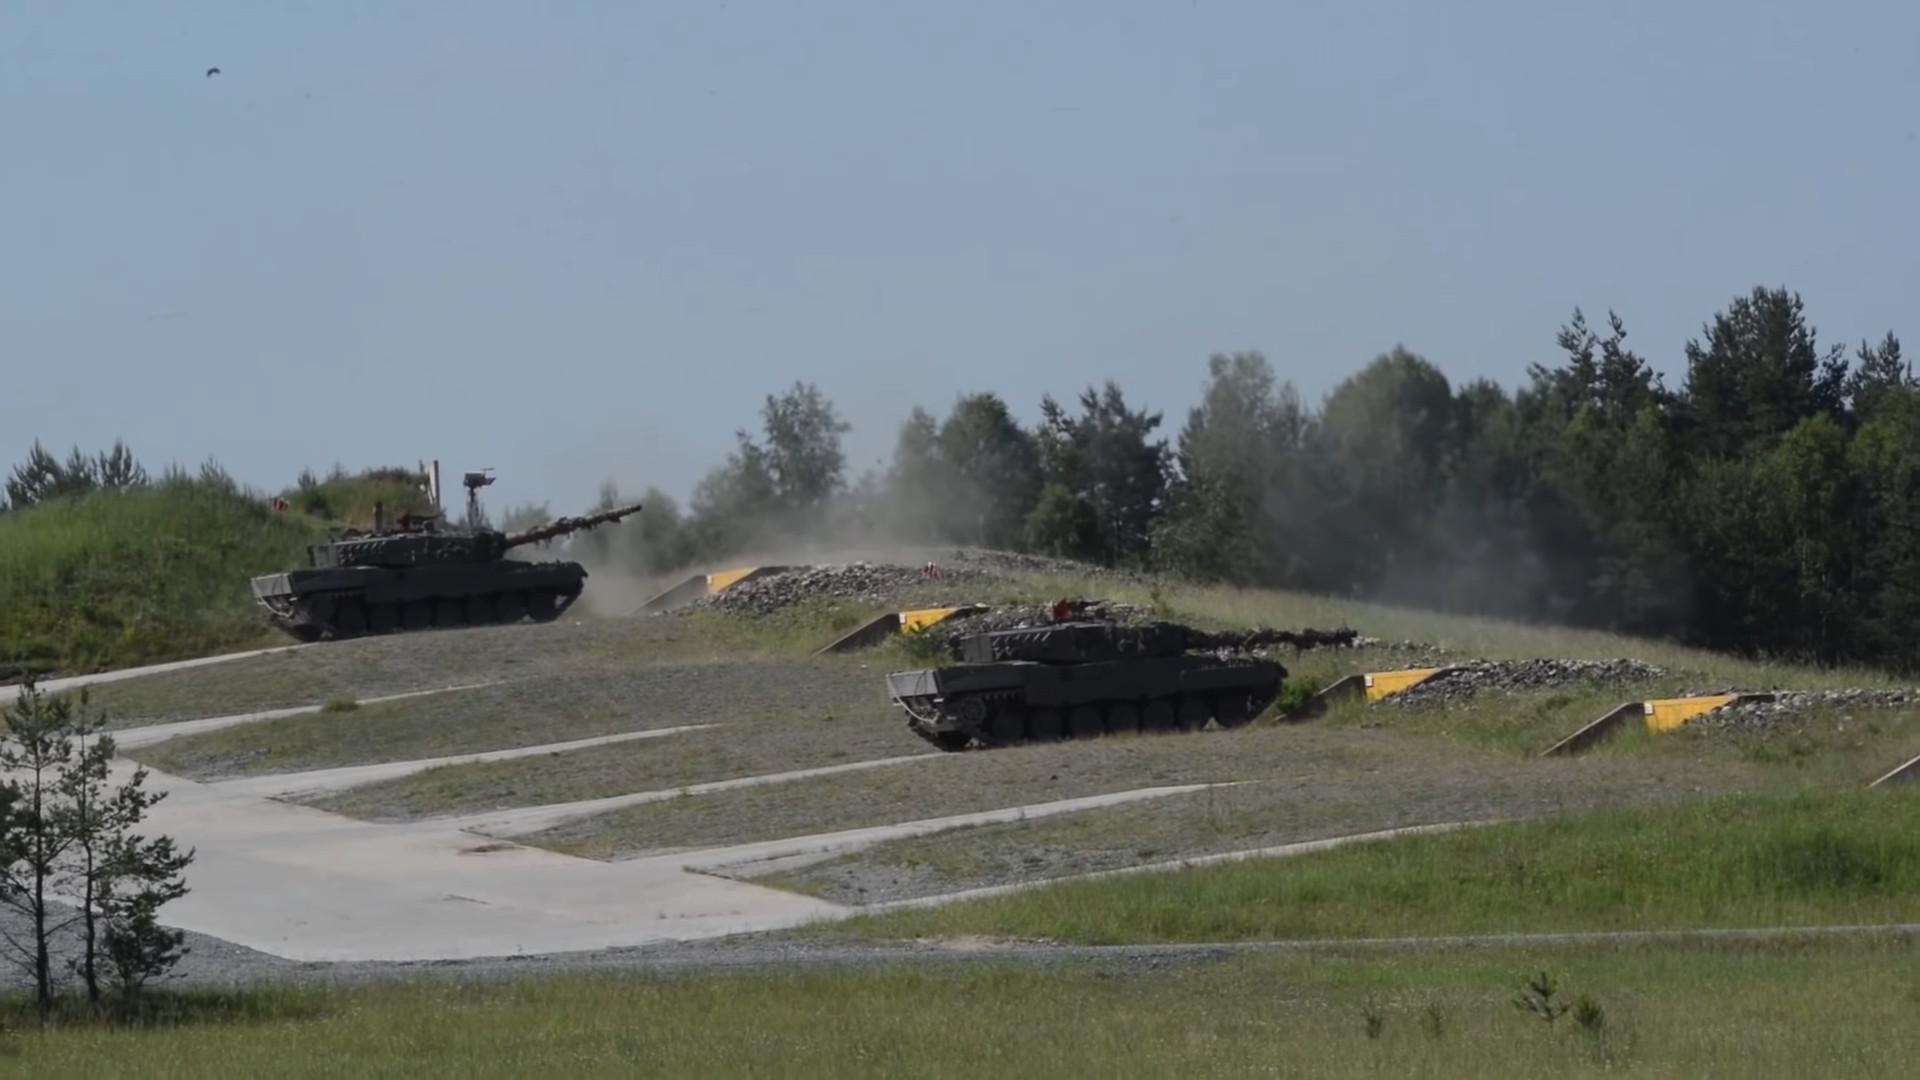tank: (886, 622, 1357, 753), (251, 504, 642, 641)
